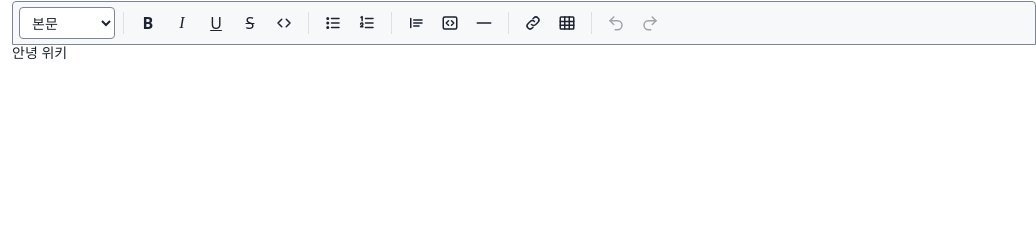
Scenario: FormatToolbar › **표 안에 있을 때만 표 무리가 붙는다** — 표 넣기는 그때 누를 수 없다
Expected: the element "표" is not shown
Click the button named "표 넣기". click: (567, 23)
box: [551, 7, 583, 39]
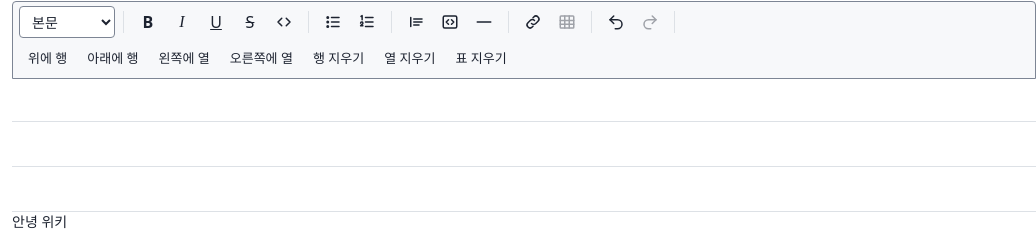
Now the button named "표 넣기" is disabled, box [551, 6, 583, 38]
Click the button "표 지우기". click: (481, 58)
box: [446, 42, 516, 74]
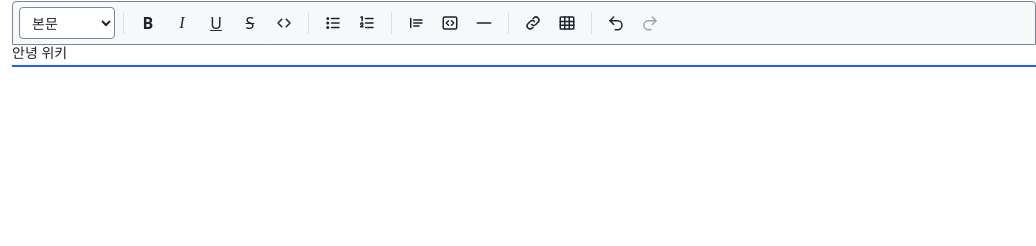
Now the button "표" is gone
